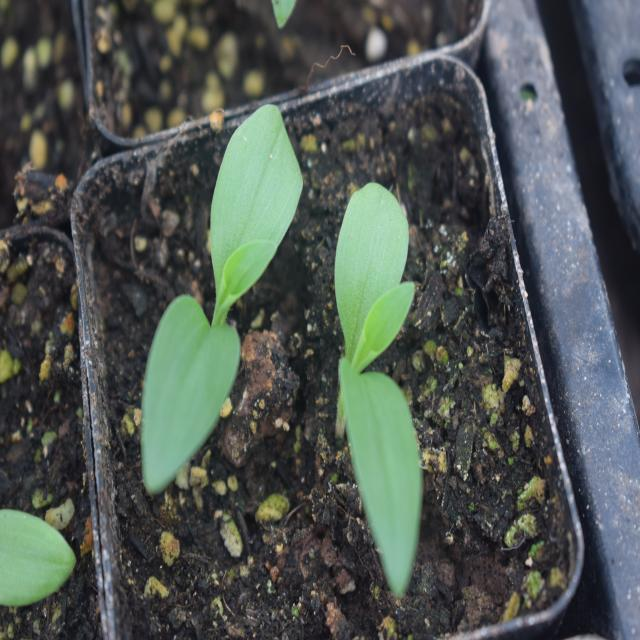Common Dayflower: (142, 94, 310, 480), (316, 182, 452, 596)
